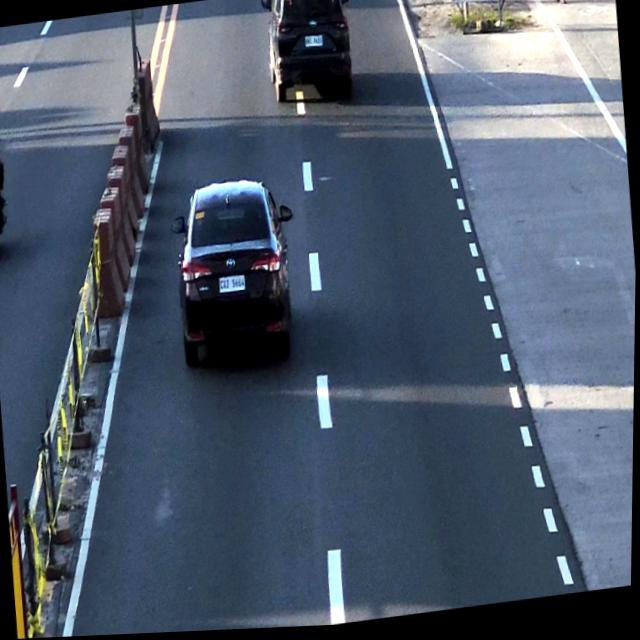Car: (171, 176, 301, 376), (260, 0, 358, 101)
License-Plate: (218, 276, 249, 298), (302, 35, 325, 56)
